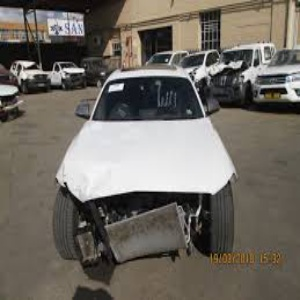bumper: (83, 188, 206, 264)
